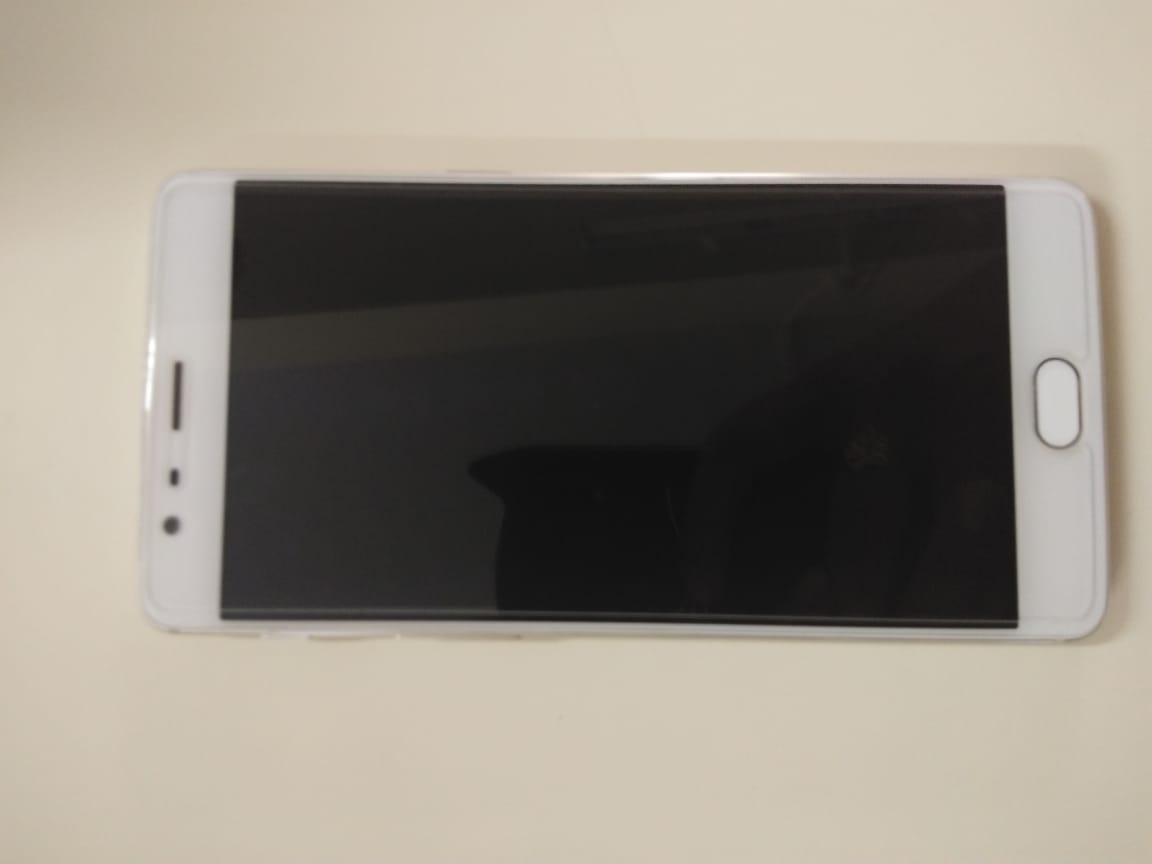Phone: (118, 143, 1138, 672)
